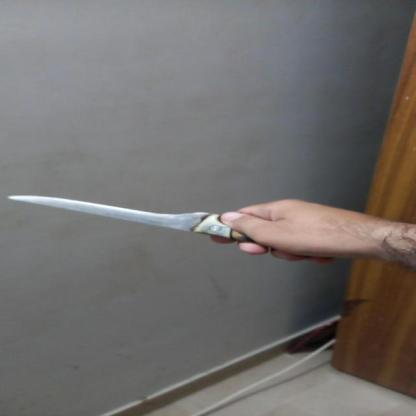Knife: (9, 192, 260, 243)
